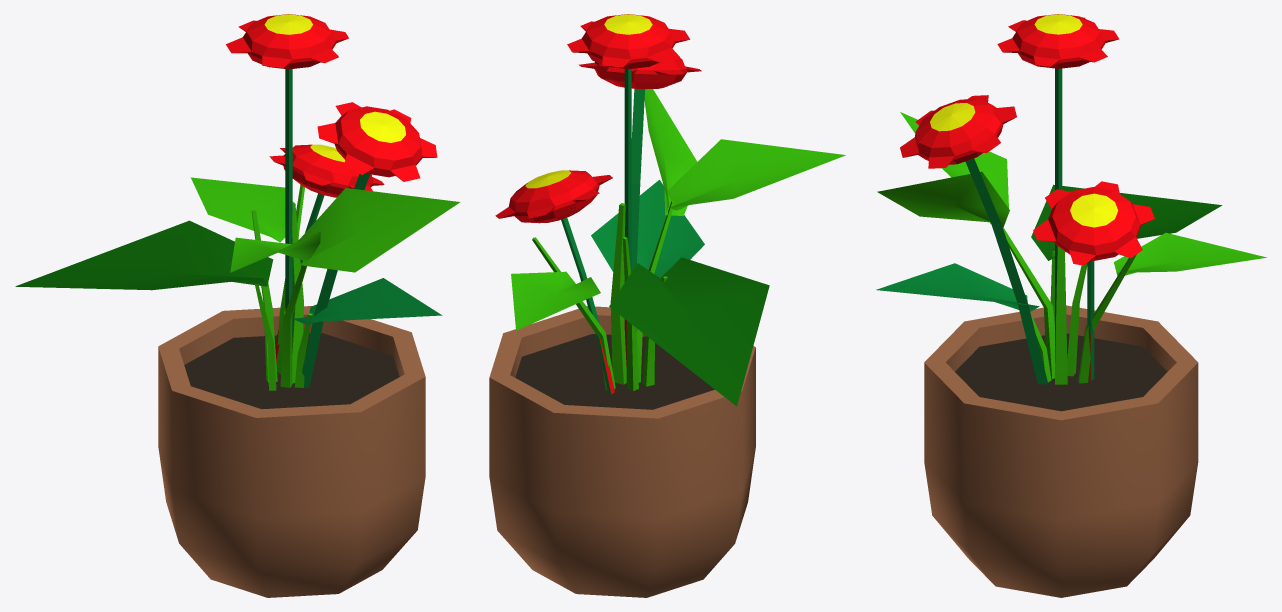
Rendered from furn_pot.glb.
3 views of the same model, side by side, from view 1: azimuth 30°, elevation 25°; view 2: azimuth 150°, elevation 25°; view 3: azimuth 270°, elevation 25° (orthographic).
Visible parts, largest first — view 1: pot_Material.001_0; view 2: pot_Material.001_0; view 3: pot_Material.001_0.
Part boxes in pixels (x1,y1,x2,y2): pot_Material.001_0: [15, 14, 460, 597]; pot_Material.001_0: [489, 14, 845, 597]; pot_Material.001_0: [876, 14, 1266, 597].
Bounding box in the file's own units: 146 × 238 × 158.
1 material, 1 textured.
